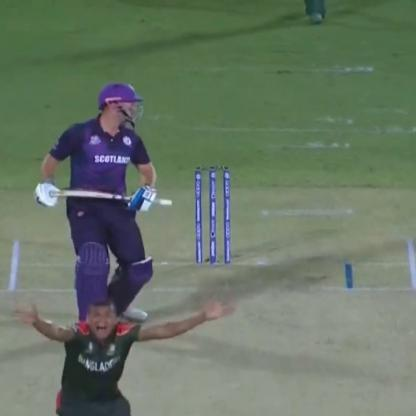bat: (26, 185, 178, 216)
pitch: (4, 236, 416, 416)
